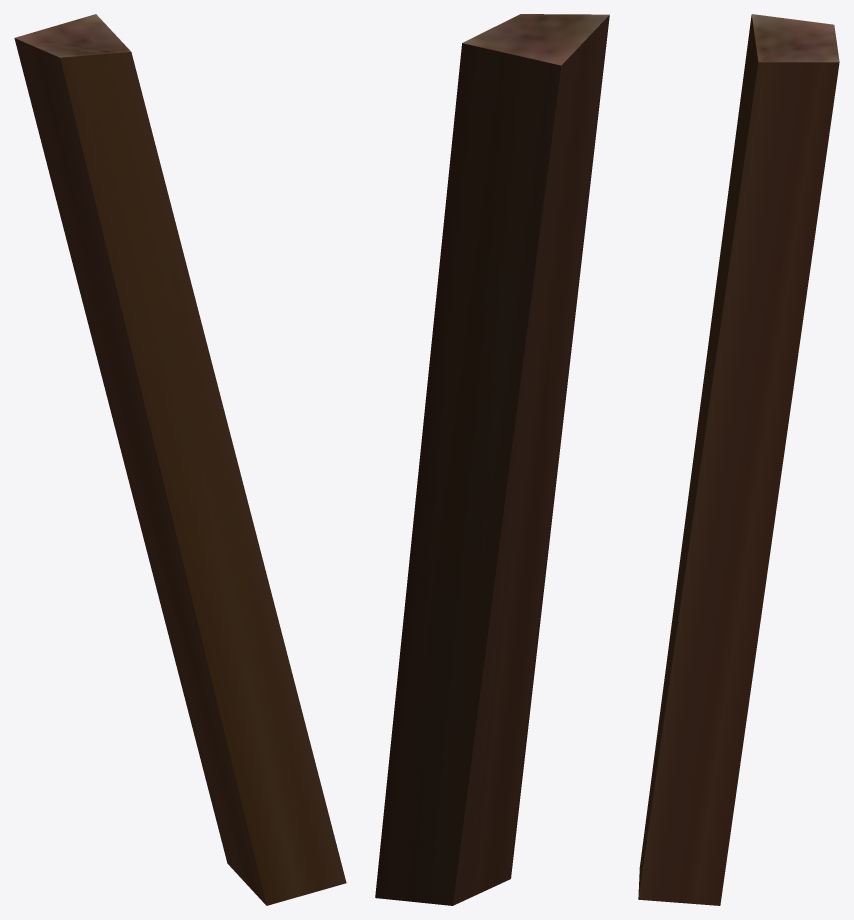
The model's file is rug-rolled.lod1.glb.
3 views of the same model, side by side, from view 1: azimuth 30°, elevation 25°; view 2: azimuth 150°, elevation 25°; view 3: azimuth 270°, elevation 25° (orthographic). The views are drawn at different scales.
Visible parts, largest first — view 1: rug-rolled; view 2: rug-rolled; view 3: rug-rolled.
Boxes of the visible parts, x1=… form: rug-rolled: x1=14, y1=14, x2=346, y2=905; rug-rolled: x1=375, y1=14, x2=609, y2=905; rug-rolled: x1=638, y1=14, x2=839, y2=905.
Size of the model in its own units: 0.4401 by 1.56 by 0.3603.
1 material, 1 textured.
